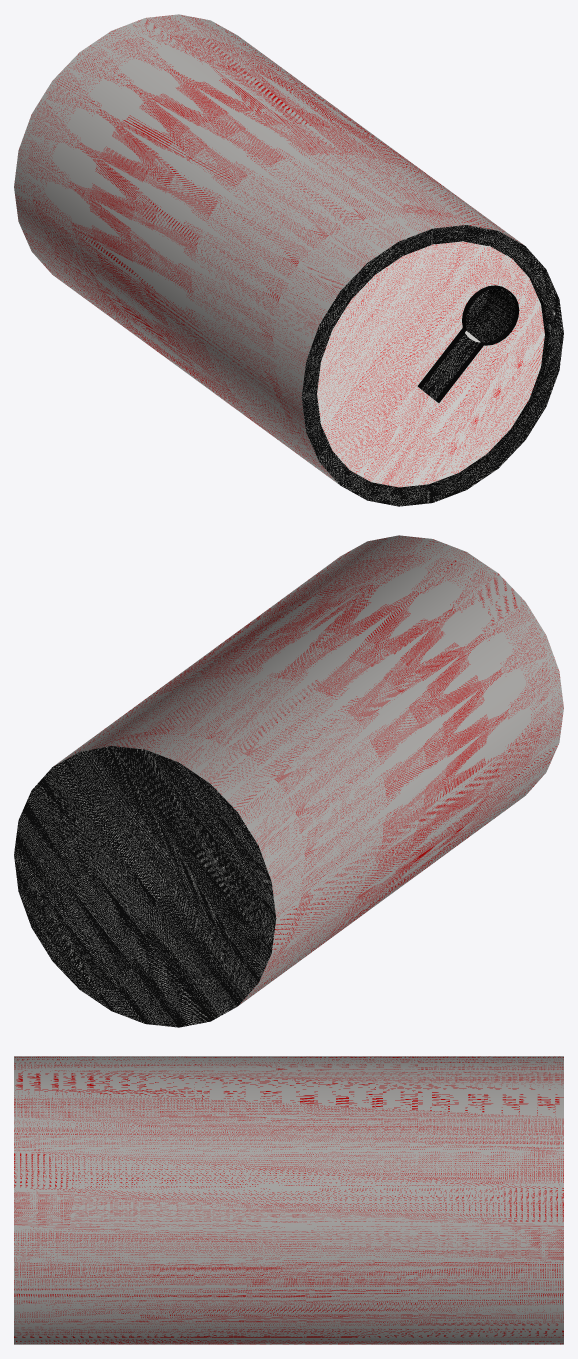
The model's file is model_align.obj.
3 renders of one model, top to bottom at view 1: azimuth 30°, elevation 25°; view 2: azimuth 150°, elevation 25°; view 3: azimuth 270°, elevation 25°, orthographic. The views are drawn at different scales.
Visible parts, largest first — view 1: mesh1_mesh1-geometry; view 2: mesh1_mesh1-geometry; view 3: mesh1_mesh1-geometry.
Boxes of the visible parts, box(x1,y1,x2,y2) form: mesh1_mesh1-geometry: box(14, 14, 563, 506); mesh1_mesh1-geometry: box(14, 535, 563, 1027); mesh1_mesh1-geometry: box(14, 1056, 563, 1344).
Bounding box in the file's own units: 0.0555 × 0.0555 × 0.1055.
